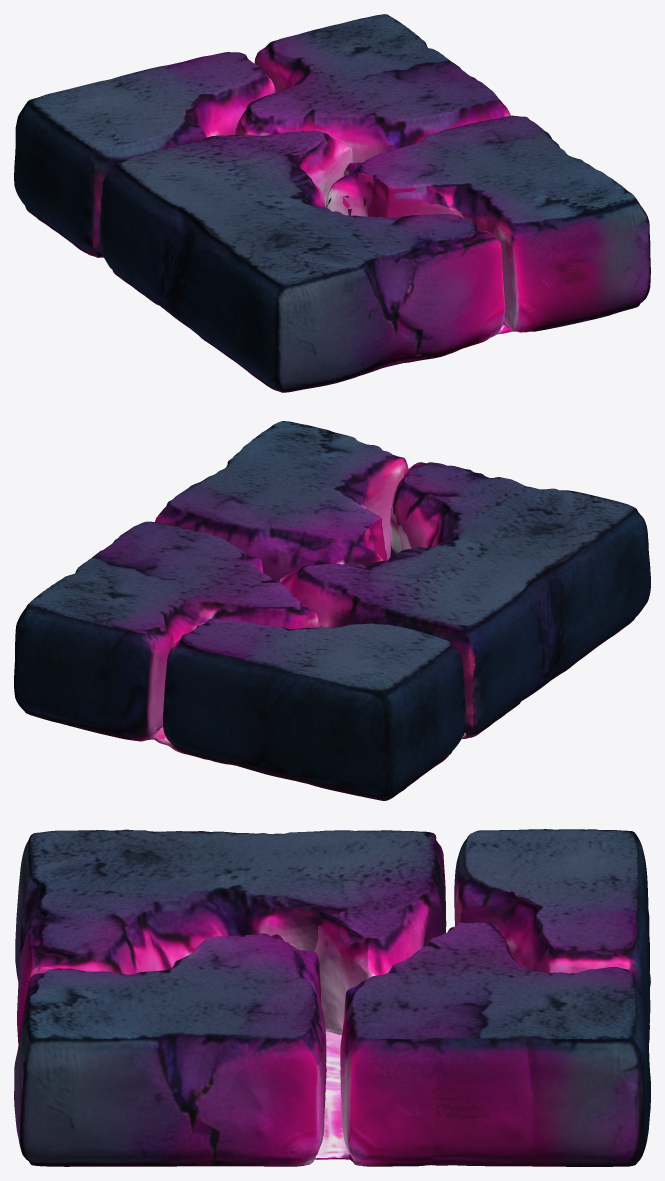
Rendered from approach-stone-6-generated-2026-05-17T18-25-16-260Z.high.glb.
3 renders of one model, top to bottom at view 1: azimuth 30°, elevation 25°; view 2: azimuth 150°, elevation 25°; view 3: azimuth 270°, elevation 25°, orthographic. The views are drawn at different scales.
Parts seen in each view (by area): view 1: temp_mesh.ply; view 2: temp_mesh.ply; view 3: temp_mesh.ply.
Boxes of the visible parts, x1,y1,x2,y2 form: temp_mesh.ply: [14, 14, 650, 392]; temp_mesh.ply: [14, 421, 650, 800]; temp_mesh.ply: [14, 829, 650, 1166].
Bounding box in the file's own units: 1.64 × 0.4522 × 1.97.
1 material, 1 textured.
